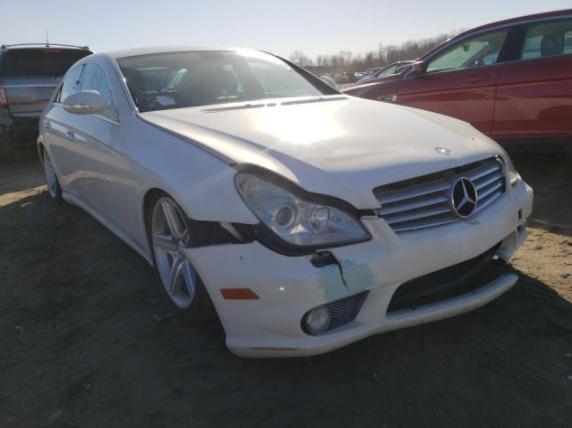Broken part: (181, 176, 533, 361), (160, 125, 501, 220)
Missing part: (310, 250, 337, 269), (518, 209, 523, 220)
